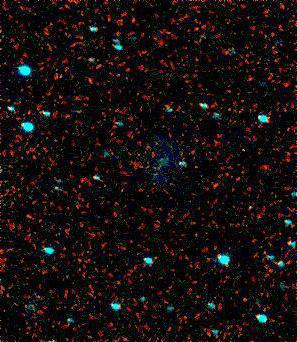star: (240, 194, 270, 224)
